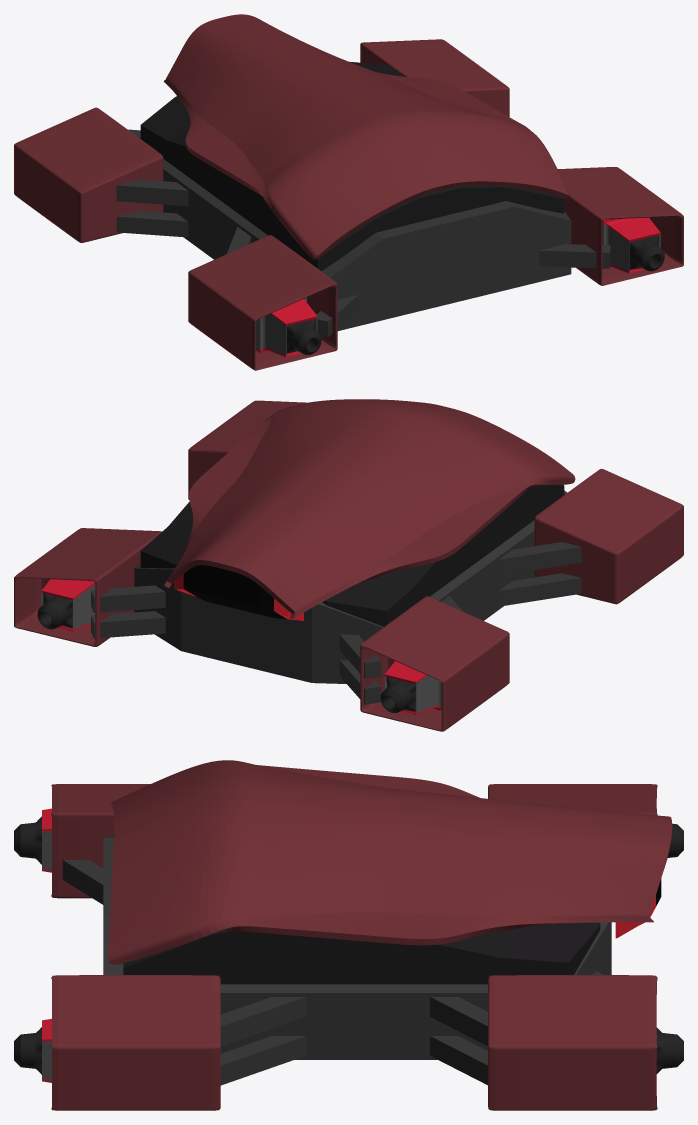
Rendered from spaceTransport.fbx.
3 renders of one model, top to bottom at view 1: azimuth 30°, elevation 25°; view 2: azimuth 150°, elevation 25°; view 3: azimuth 270°, elevation 25°, orthographic. The views are drawn at different scales.
Parts seen in each view (by area): view 1: Cube.001, Cube, Cube.008, Cube.005, Cube.004, Cube.014, Cube.013, Cube.006, Cube.007; view 2: Cube.001, Cube.005, Cube.008, Cube, Cube.004, Cube.015, Cube.002, Cube.009, Cube.010, Cube.011, Cube.012; view 3: Cube.001, Cube.008, Cube.005, Cube.004, Cube, Cube.014, Cube.012, Cube.011, Cube.007, Cube.006, Cube.015, Cube.013.
Part boxes in pixels (<box>): Cube.001: <box>164,14,570,260</box>; Cube: <box>163,96,571,330</box>; Cube.008: <box>188,167,683,370</box>; Cube.005: <box>14,39,509,242</box>; Cube.004: <box>140,61,564,271</box>; Cube.014: <box>255,217,664,356</box>; Cube.013: <box>316,244,610,337</box>; Cube.006: <box>116,179,188,206</box>; Cube.007: <box>116,211,188,237</box>; Cube.001: <box>164,399,575,618</box>; Cube.005: <box>14,528,509,731</box>; Cube.008: <box>188,400,683,604</box>; Cube: <box>134,490,567,683</box>; Cube.004: <box>140,485,564,626</box>; Cube.015: <box>37,579,441,715</box>; Cube.002: <box>183,565,286,619</box>; Cube.009: <box>91,585,381,678</box>; Cube.010: <box>91,611,381,704</box>; Cube.011: <box>499,542,581,575</box>; Cube.012: <box>499,573,581,606</box>; Cube.001: <box>107,760,672,964</box>; Cube.008: <box>51,784,220,1110</box>; Cube.005: <box>488,784,657,1110</box>; Cube.004: <box>123,922,600,984</box>; Cube: <box>103,836,611,1059</box>; Cube.014: <box>14,808,51,1082</box>; Cube.012: <box>220,1036,305,1085</box>; Cube.011: <box>220,997,305,1046</box>; Cube.007: <box>430,1036,487,1085</box>; Cube.006: <box>430,997,487,1045</box>; Cube.015: <box>656,823,683,1073</box>; Cube.013: <box>62,860,103,904</box>.
Size of the model in its own units: 2739 by 899 by 2940.
